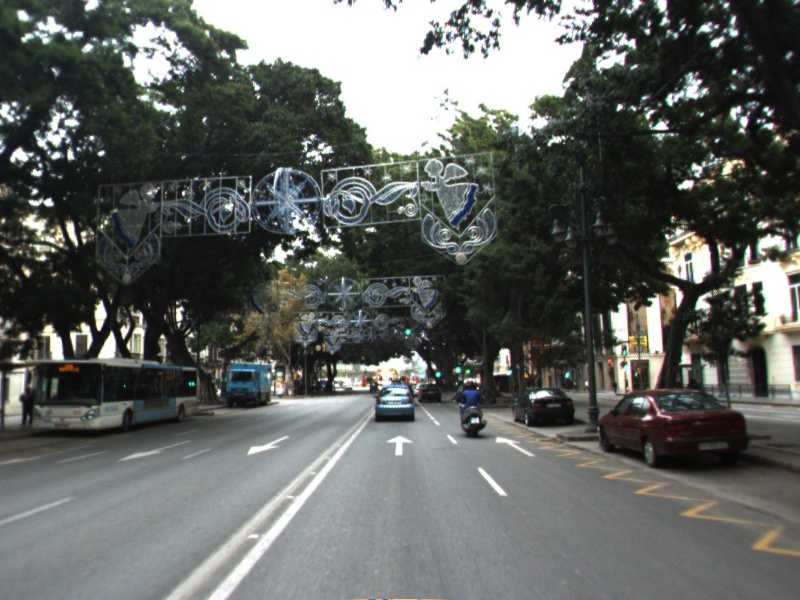STRAIGHT: (493, 434, 538, 459), (384, 433, 415, 457)
